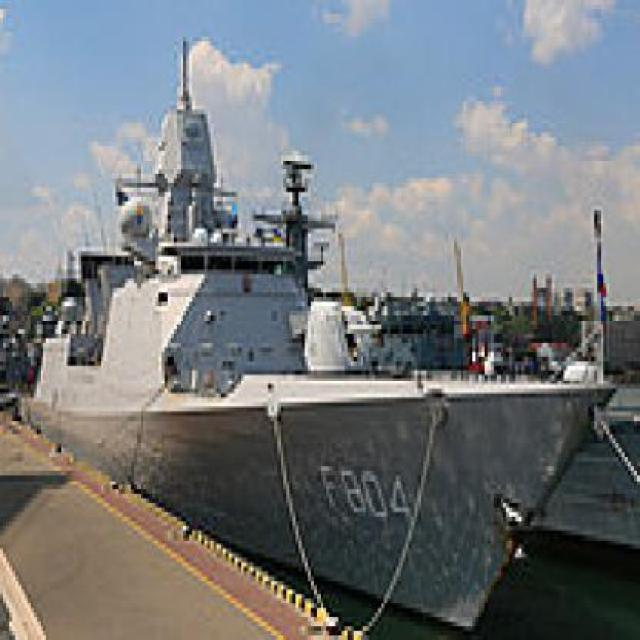warship2: (29, 51, 632, 637)
